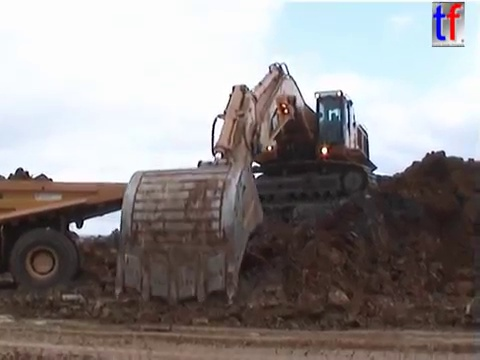excavator: (111, 59, 384, 309)
truck: (1, 175, 169, 299)
